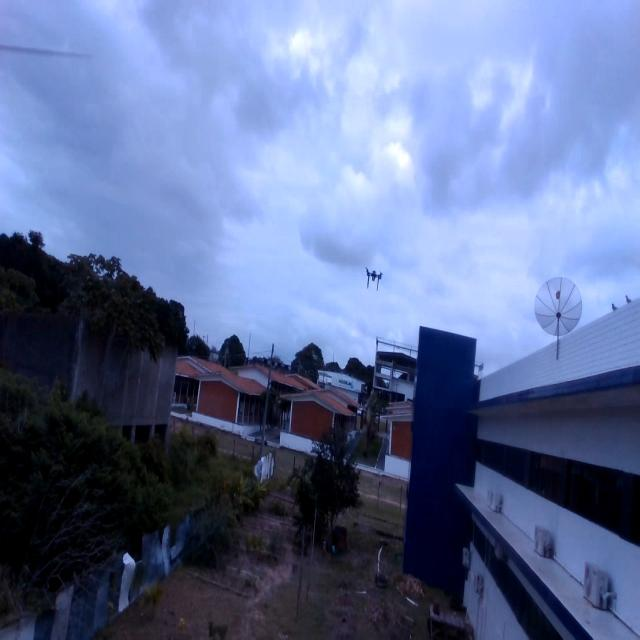-uav-: (362, 260, 385, 296)
